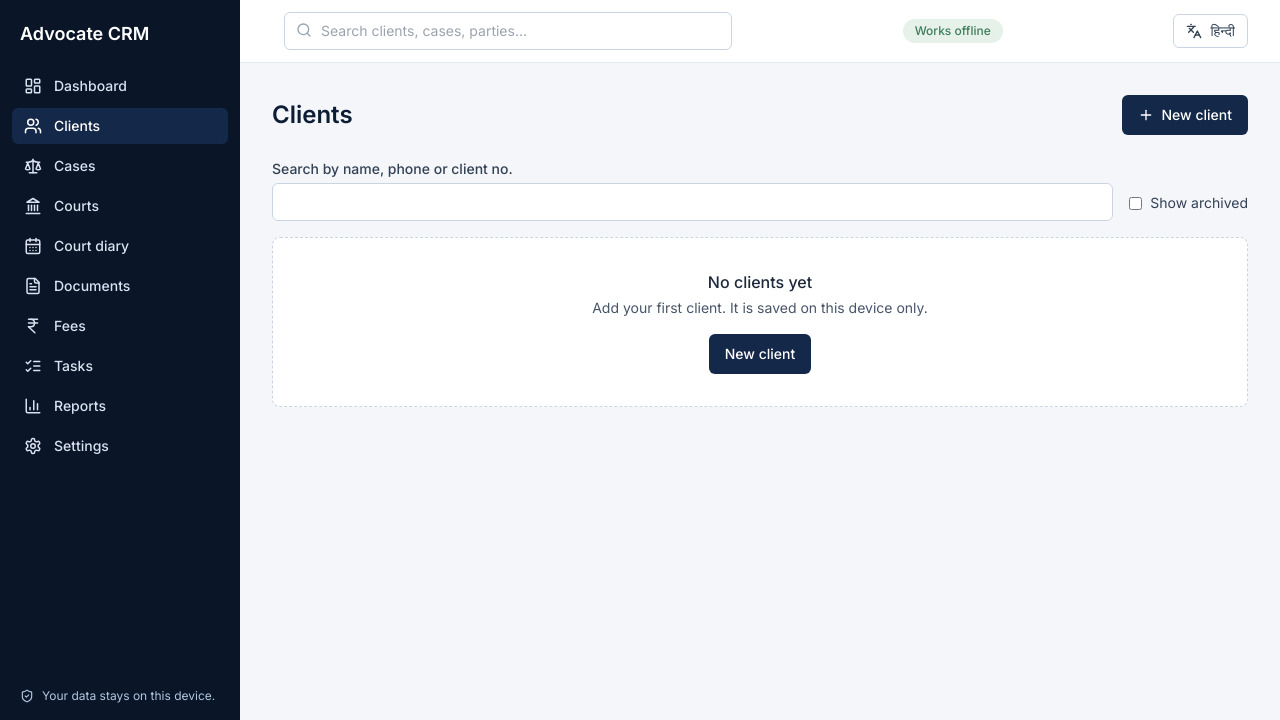
Test: client management › creates a client, lists it, opens its page and archives it after confirmation
The width and height of the screenshot is (1280, 720).
Click the 1st button "New client" at (1185, 115), box [1122,95,1248,135]
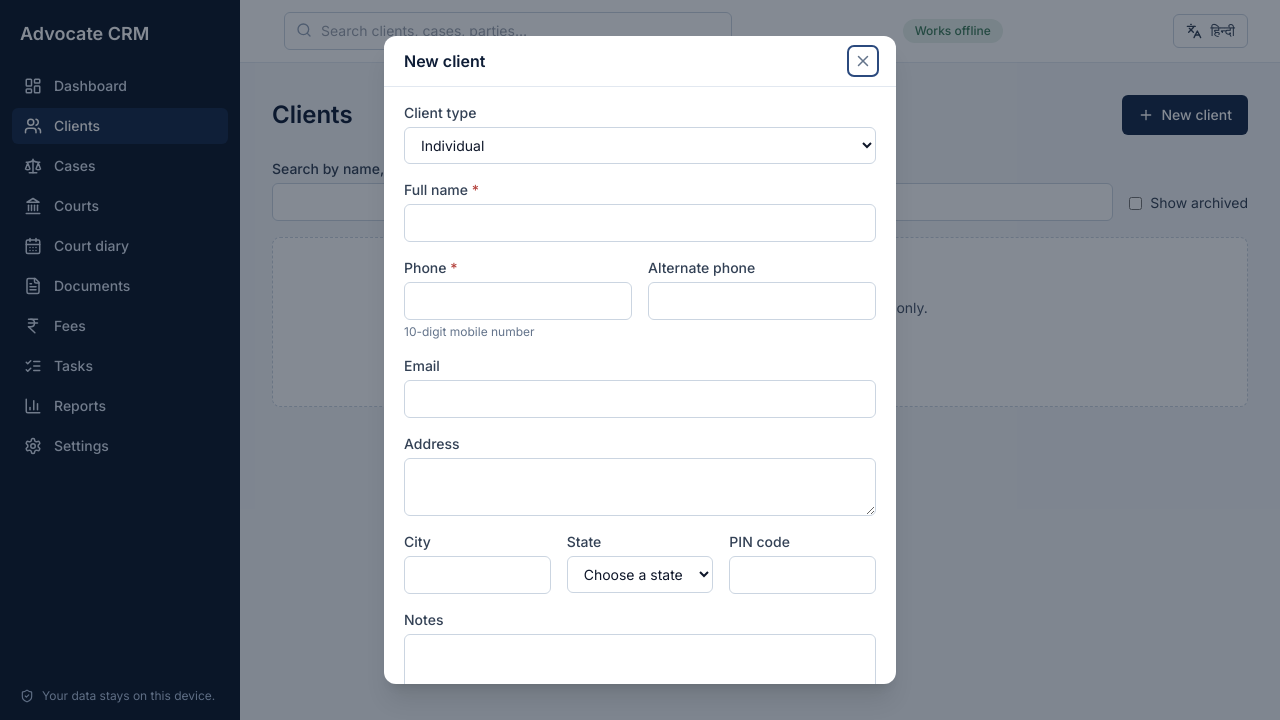
Type "Asha Verma" into the field labelled "Full name *" at (640, 223), box [404,204,876,242]
Type "9876543210" into the field labelled "Phone" at (518, 301), box [404,282,632,320]
(page scrolled)
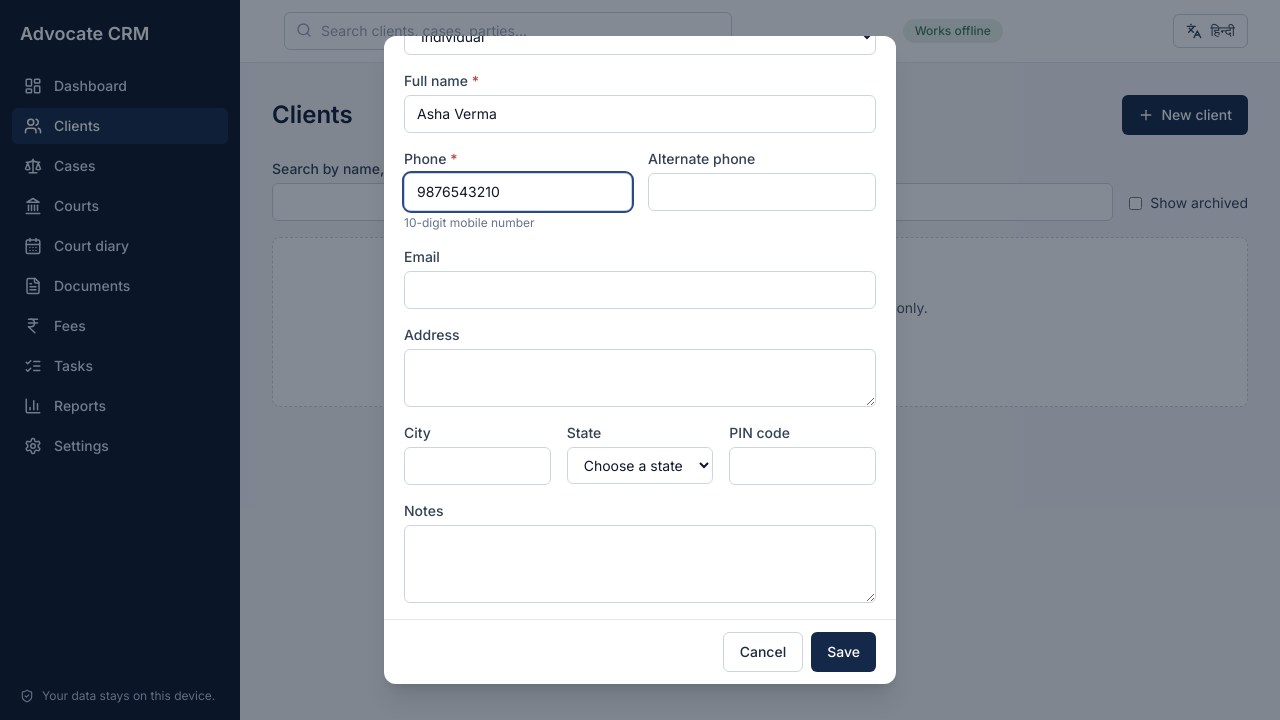
Click the button "Save" at (844, 652), box [811,632,876,672]
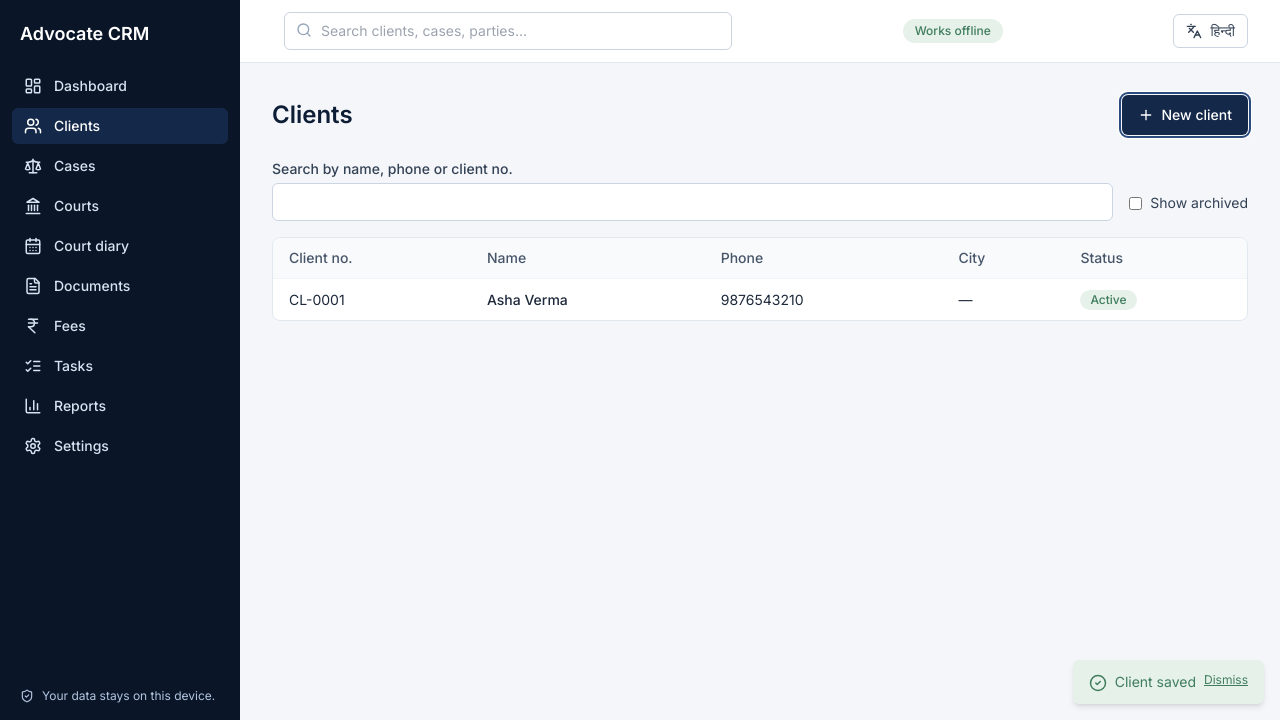
Result: the text "Client saved" is shown at [1115,672,1196,692]
Result: the text "CL-0001" is shown at [273,278,471,320]
Click the text "Asha Verma" at (527, 299), box [487,290,568,308]
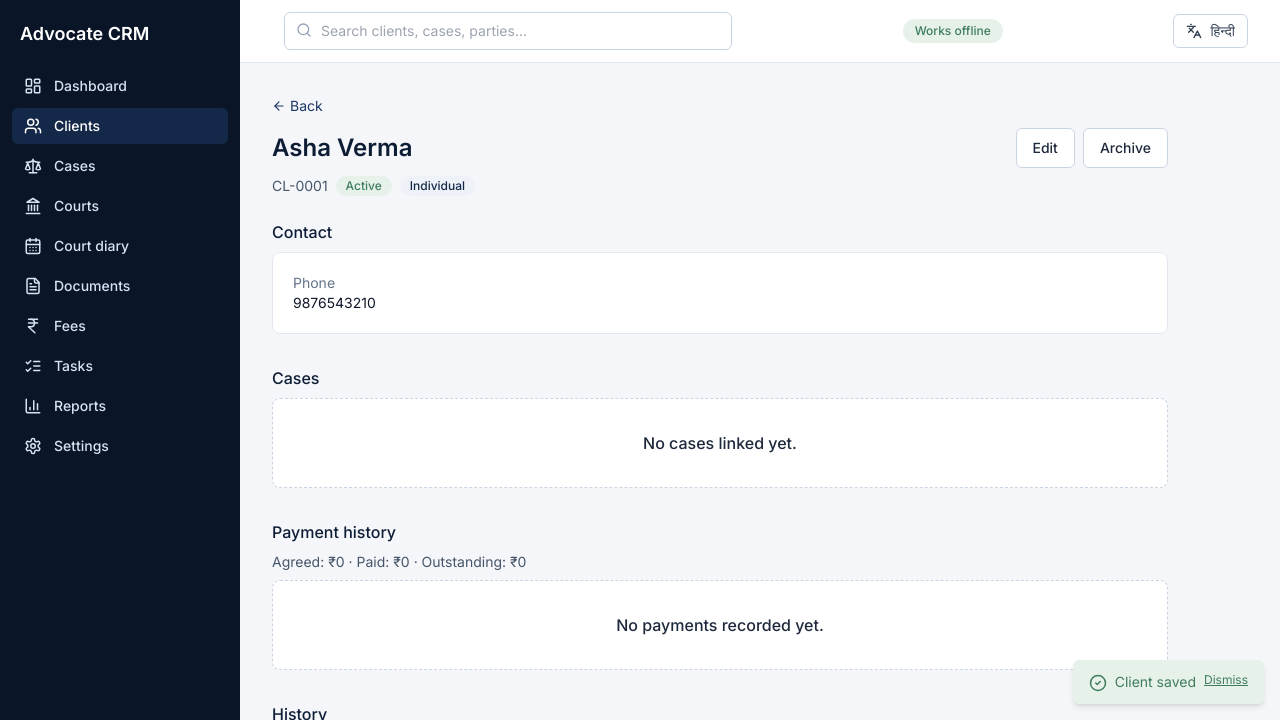
Result: the heading "Asha Verma" is shown at [272,132,412,164]
Click the button "Archive" at (1125, 148), box [1083,128,1168,168]
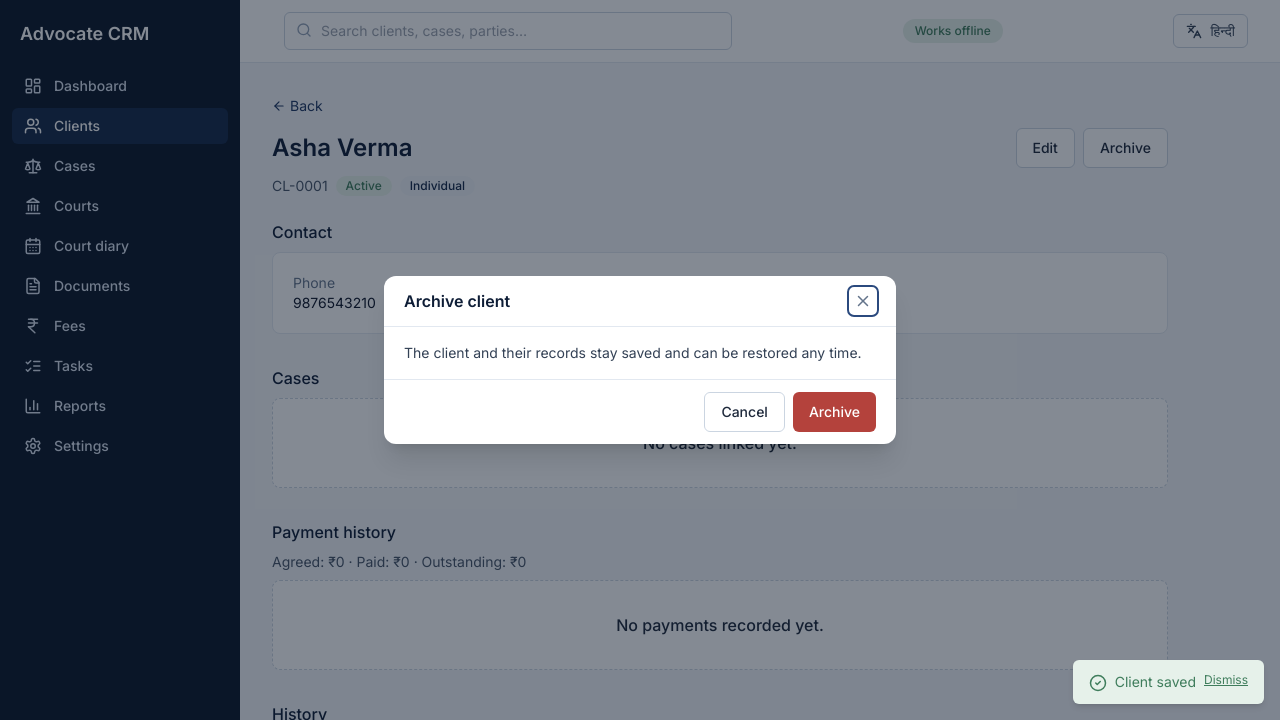
Click the button "Archive" at (834, 412), box [793,392,876,432]
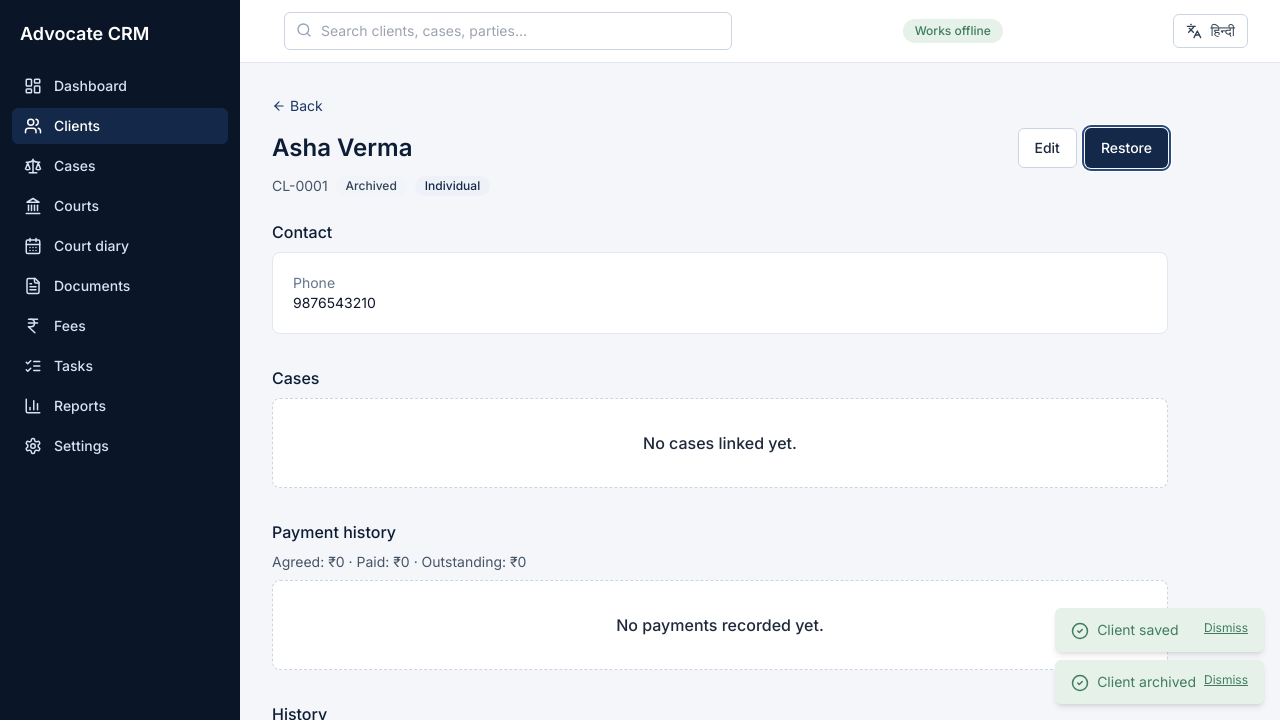
Result: the button "Restore" is shown at [1085,128,1168,168]
